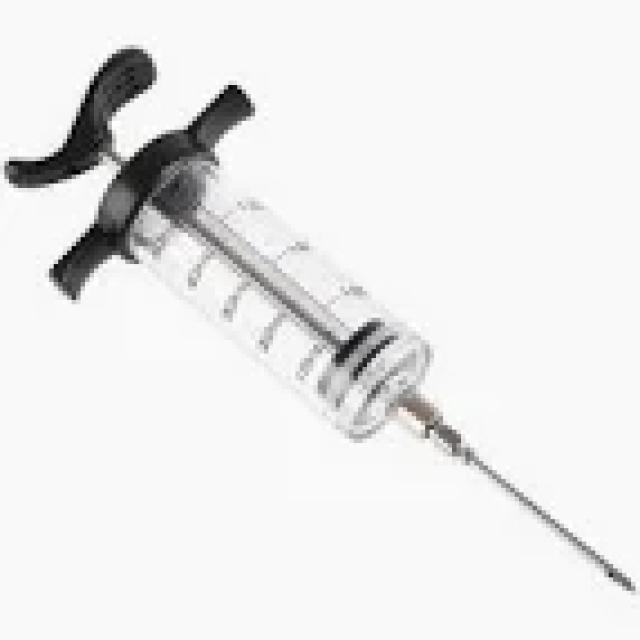syringe: (0, 41, 636, 596)
